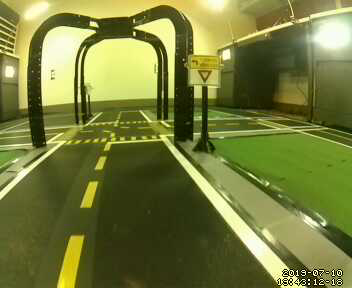Turn Yield: (187, 54, 222, 88)
